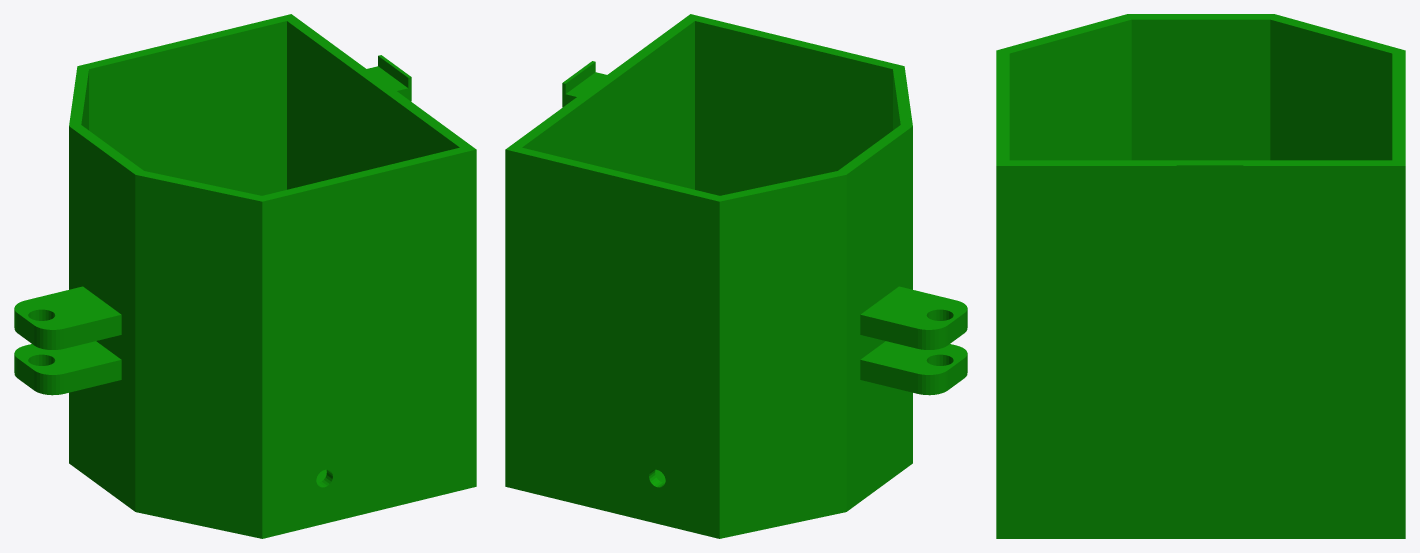
3 renders of one model, left to right at view 1: azimuth 30°, elevation 25°; view 2: azimuth 150°, elevation 25°; view 3: azimuth 270°, elevation 25°, orthographic. The views are drawn at different scales.
Visible parts, largest first — view 1: base_link; view 2: base_link; view 3: base_link.
Part boxes in pixels (bbox=[...]): base_link: bbox=[14, 14, 476, 538]; base_link: bbox=[505, 14, 967, 538]; base_link: bbox=[996, 14, 1405, 538].
Size of the model in its own units: 716 by 613 by 632.
